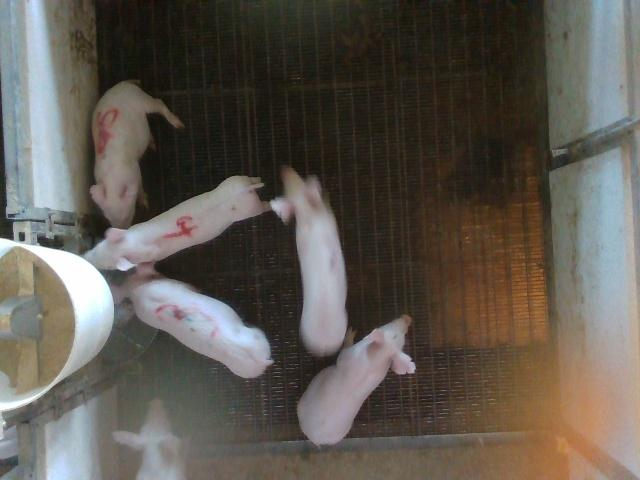pig-2: (270, 166, 348, 356)
pig-3: (110, 262, 272, 378)
pig-4: (84, 176, 269, 271)
pig-5: (90, 81, 184, 228)
